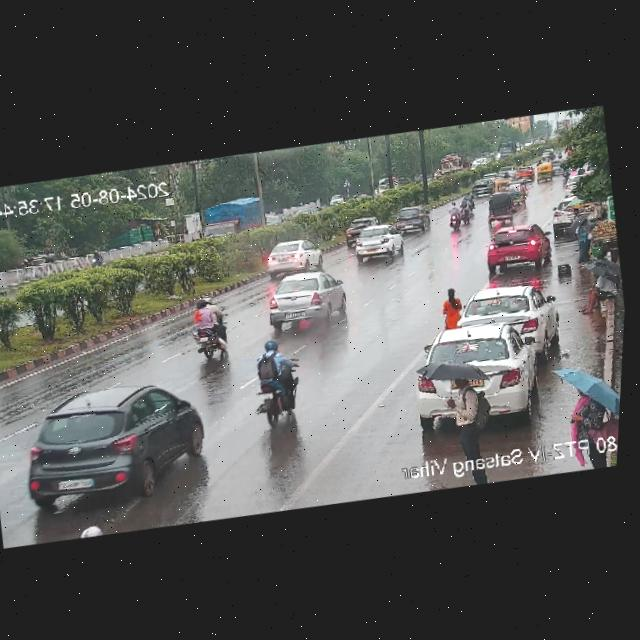car: (6, 374, 207, 515), (407, 322, 544, 422), (455, 280, 562, 353), (253, 265, 354, 335), (479, 219, 551, 271), (259, 237, 329, 279), (347, 226, 410, 266), (481, 189, 520, 225), (339, 213, 386, 240), (387, 211, 431, 237), (462, 177, 495, 200), (535, 161, 555, 182), (0, 269, 6, 311)
motorcycle: (239, 334, 308, 425), (175, 291, 240, 365), (439, 194, 473, 232), (88, 249, 107, 270)
person: (434, 369, 495, 455), (575, 267, 624, 315), (432, 285, 463, 330)
truck: (196, 194, 269, 246), (567, 381, 615, 448), (570, 219, 597, 268), (438, 151, 471, 176), (371, 174, 401, 198), (496, 140, 518, 160), (328, 193, 347, 207)
